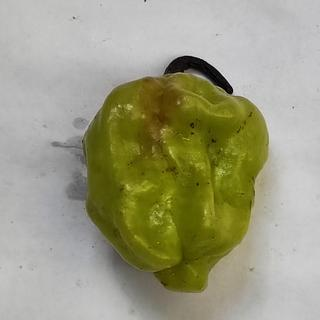Fly-bites: (150, 270, 177, 293), (208, 133, 220, 148), (234, 124, 245, 136), (188, 120, 198, 133), (194, 179, 204, 190), (247, 110, 255, 120), (160, 169, 166, 176)
